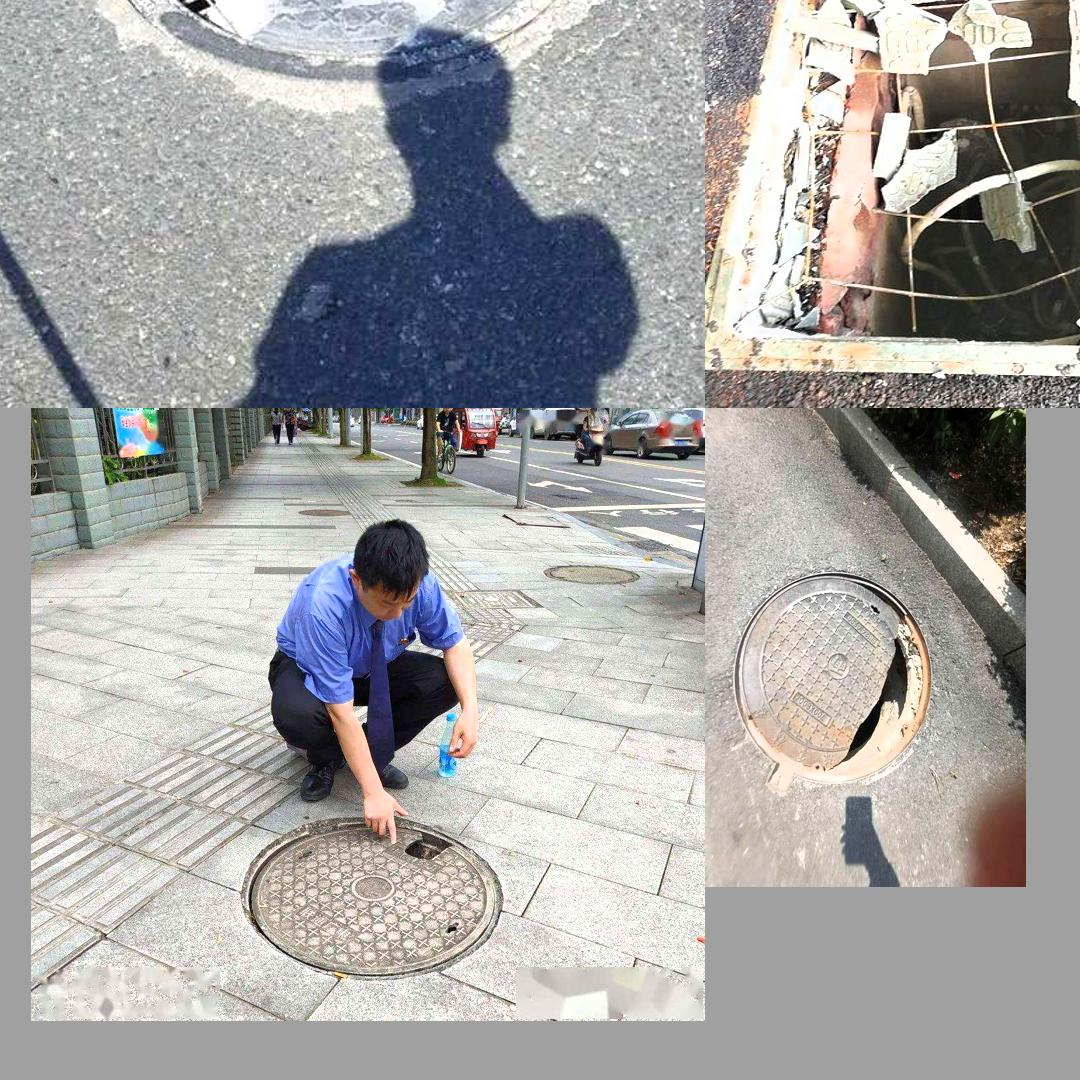broke: (717, 0, 1080, 391), (69, 0, 615, 104), (728, 558, 937, 792), (247, 815, 507, 976)
